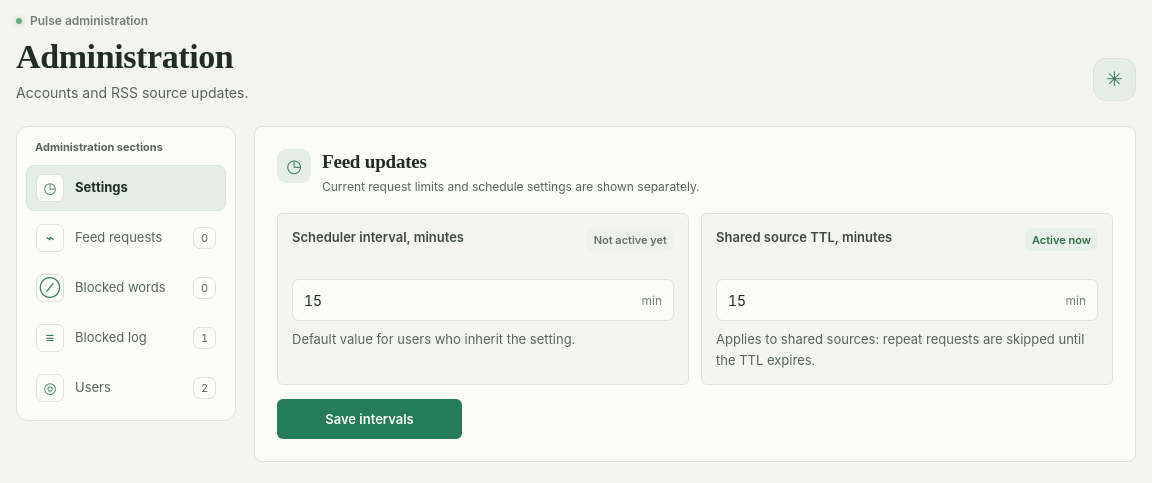
AdminPanel › refetches the bounded queue after allowing an article to show the next pending item
Step 1. Click the button "≡ Blocked log 1" → (126, 338), box top-left (26, 315), bottom-right (226, 361)
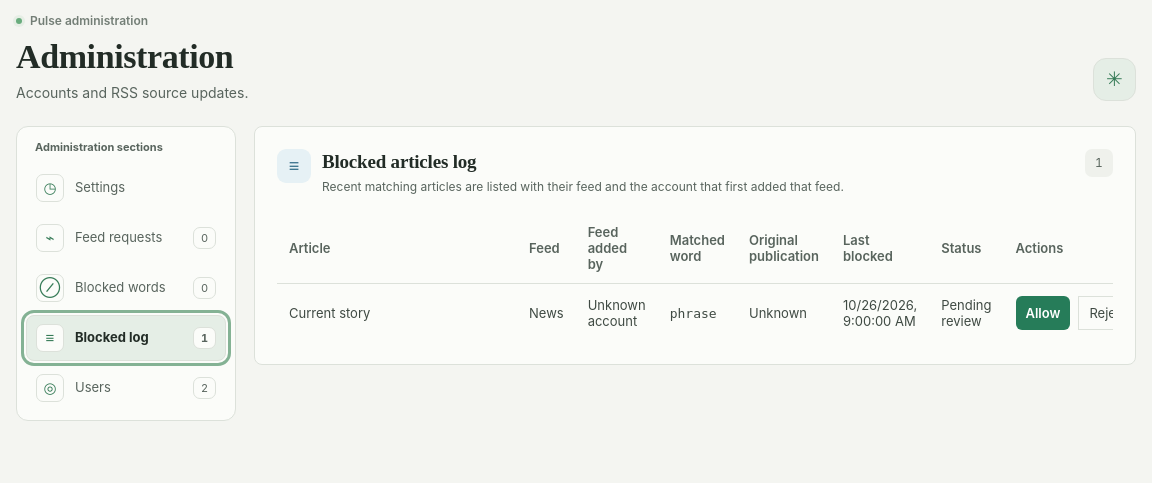
Step 2. Click the button "Allow" → (1043, 314), box top-left (1016, 296), bottom-right (1070, 330)
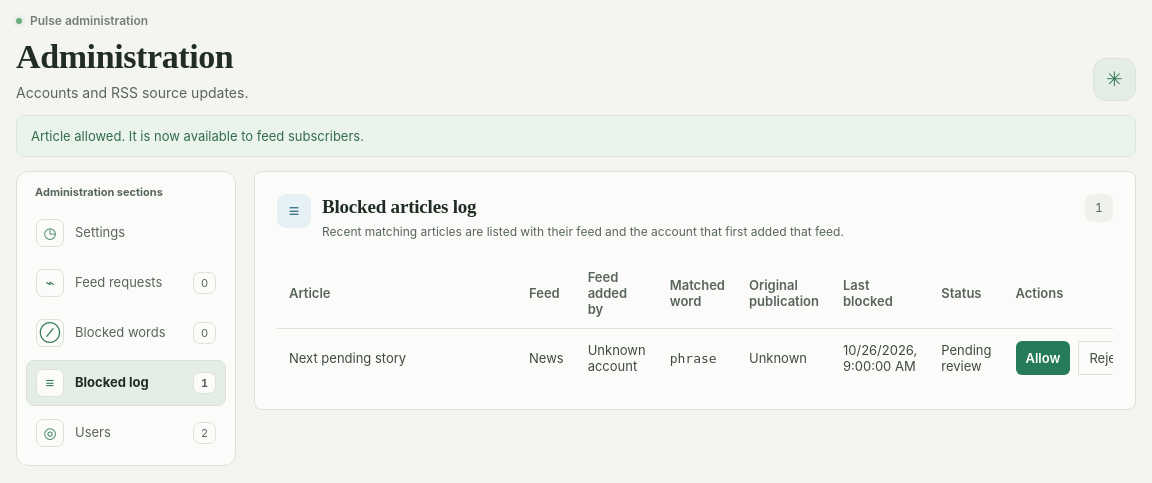
Now the button "Allow" is shown, box top-left (1016, 342), bottom-right (1070, 376)
Now the text "Next pending story" is shown, box top-left (277, 329), bottom-right (517, 388)
Now the text "Current story" is gone
